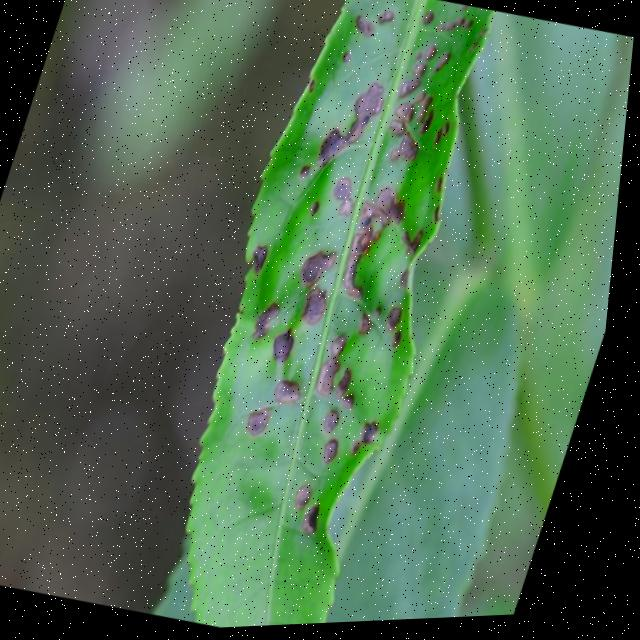Tea red scab: (176, 0, 525, 574)
